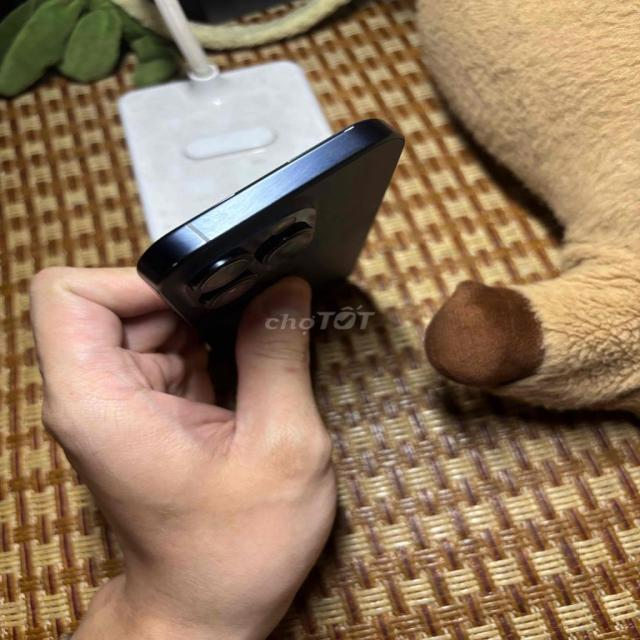gen_15: (118, 100, 446, 348)
